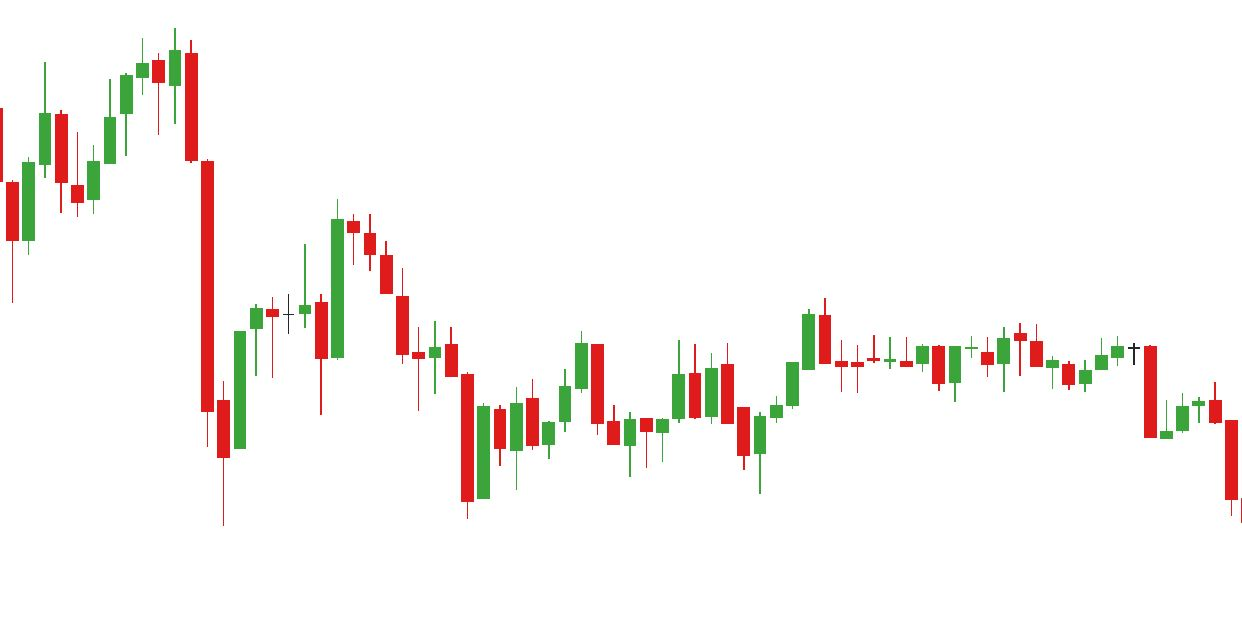buy: (624, 381, 770, 498)
sell: (38, 35, 167, 171)
